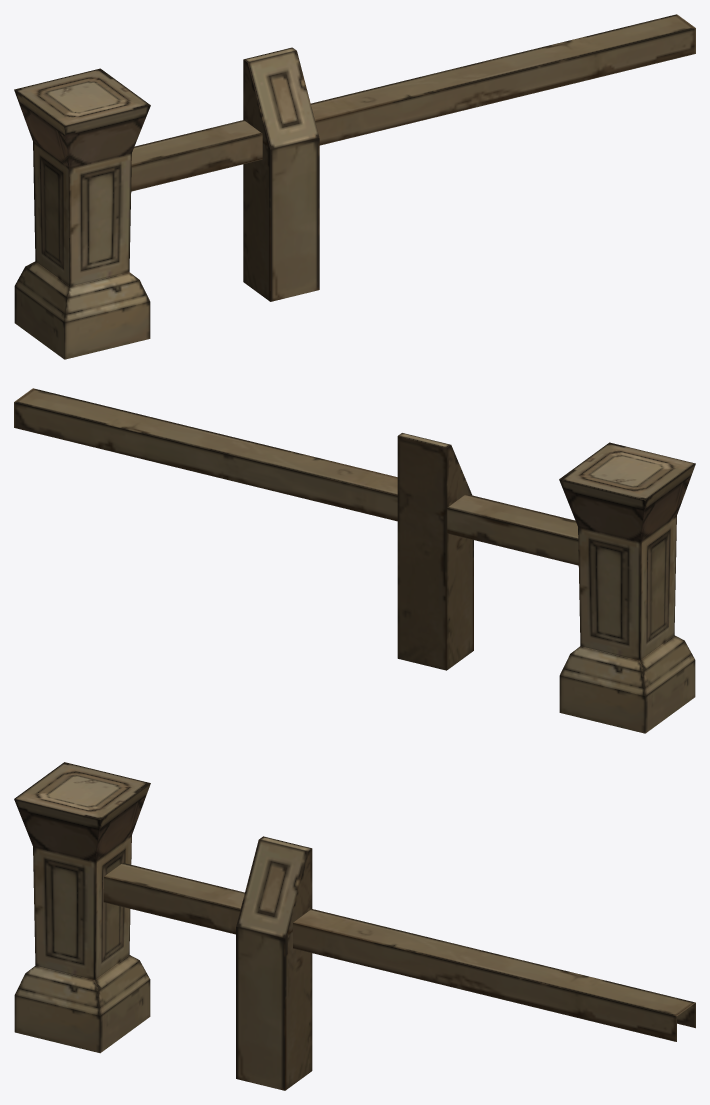
Rendered from 2_DG_ZhaLan_01.FBX.
The picture shows the model from 3 angles, top to bottom: view 1: azimuth 30°, elevation 25°; view 2: azimuth 150°, elevation 25°; view 3: azimuth 330°, elevation 25°; orthographic projection.
Visible parts, largest first — view 1: 2_DG_ZhaLan_01, 2_DG_ZhaLan_03, 2_DG_ZhaLan_02; view 2: 2_DG_ZhaLan_01, 2_DG_ZhaLan_03, 2_DG_ZhaLan_02; view 3: 2_DG_ZhaLan_01, 2_DG_ZhaLan_03, 2_DG_ZhaLan_02.
Boxes of the visible parts, <box> form: 2_DG_ZhaLan_01: <box>14,68,150,359</box>; 2_DG_ZhaLan_03: <box>131,14,695,191</box>; 2_DG_ZhaLan_02: <box>243,47,319,301</box>; 2_DG_ZhaLan_01: <box>559,442,695,733</box>; 2_DG_ZhaLan_03: <box>14,388,578,565</box>; 2_DG_ZhaLan_02: <box>397,433,473,670</box>; 2_DG_ZhaLan_01: <box>14,762,150,1053</box>; 2_DG_ZhaLan_03: <box>103,863,695,1041</box>; 2_DG_ZhaLan_02: <box>236,836,312,1090</box>.
Bounding box in the file's own units: 639 × 220 × 86.31.
